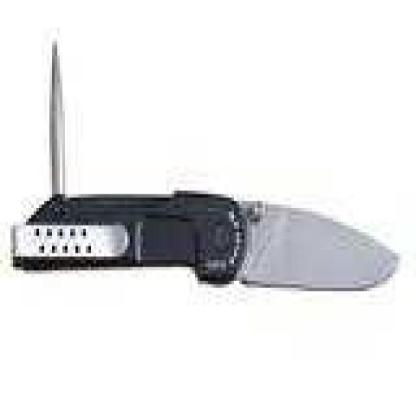Knife: (11, 32, 403, 296)
